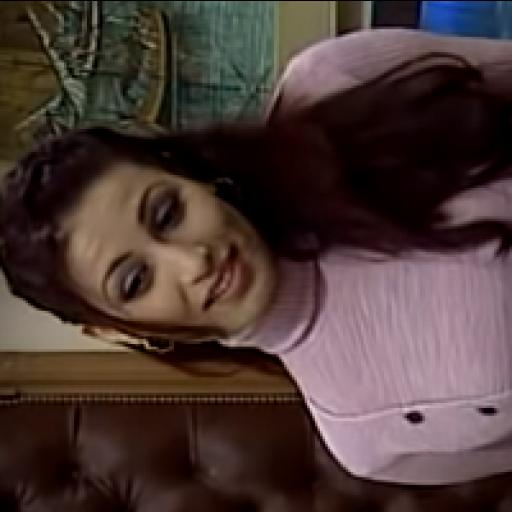Dalanda: (62, 162, 276, 332)
